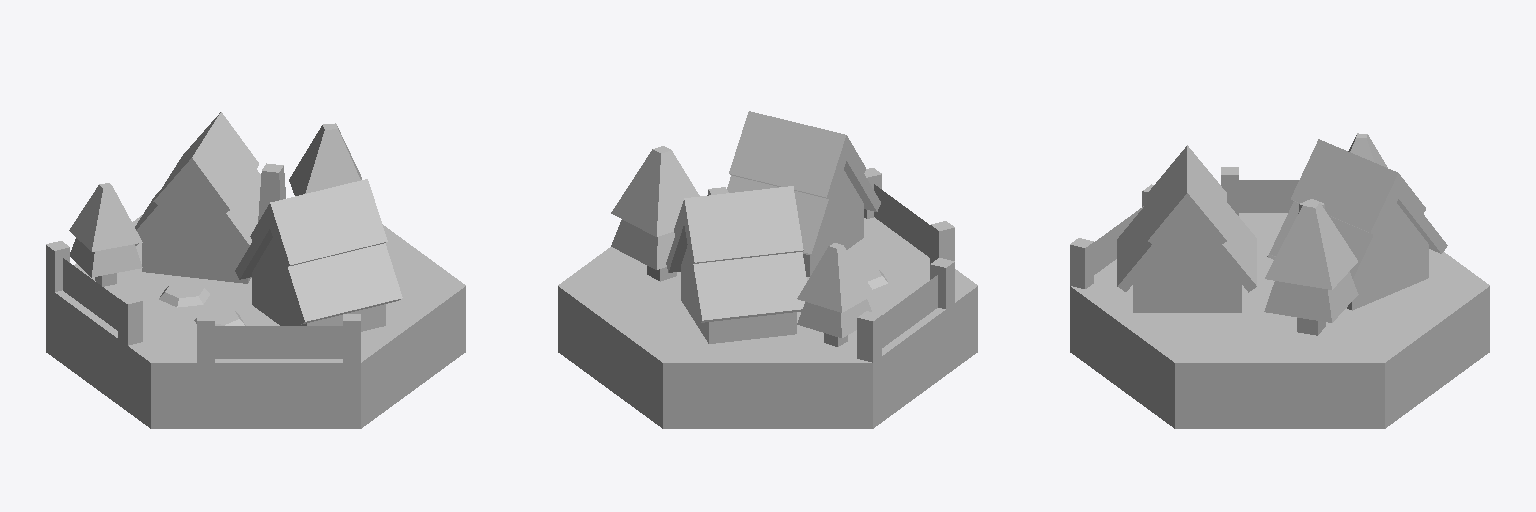
File: building_village.obj
3 renders of one model, left to right at view 1: azimuth 30°, elevation 25°; view 2: azimuth 150°, elevation 25°; view 3: azimuth 270°, elevation 25°, orthographic.
Visible parts, largest first — view 1: building_village, building, fence, tree, Group, chimney; view 2: building_village, building, tree, fence; view 3: building_village, building, tree, fence.
Part boxes in pixels (x1,y1,x2,y2): building_village: (46,215,465,428); building: (135,112,402,331); fence: (46,241,360,362); tree: (69,123,361,286); Group: (159,282,245,325); chimney: (258,163,285,221); building_village: (558,217,977,428); building: (666,111,880,343); tree: (611,146,874,346); fence: (857,168,954,362); building_village: (1070,213,1489,428); building: (1117,139,1447,312); tree: (1264,133,1387,335); fence: (1070,167,1298,288).
Size of the model in its own units: 1 by 0.58 by 1.15.